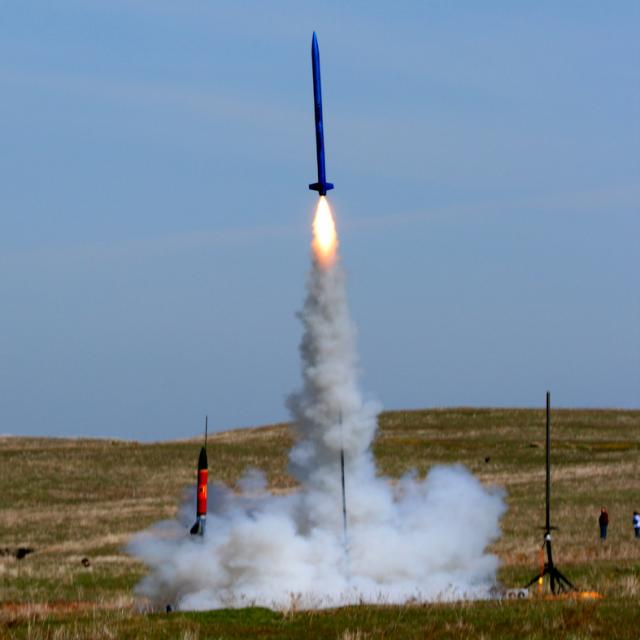rocket: (309, 28, 333, 340)
